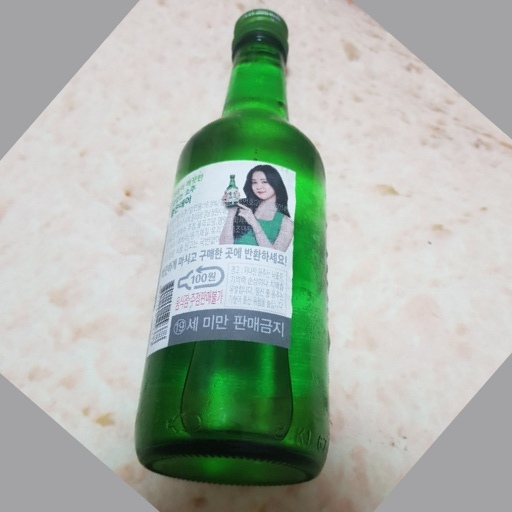Glass_0: (131, 4, 336, 487)
